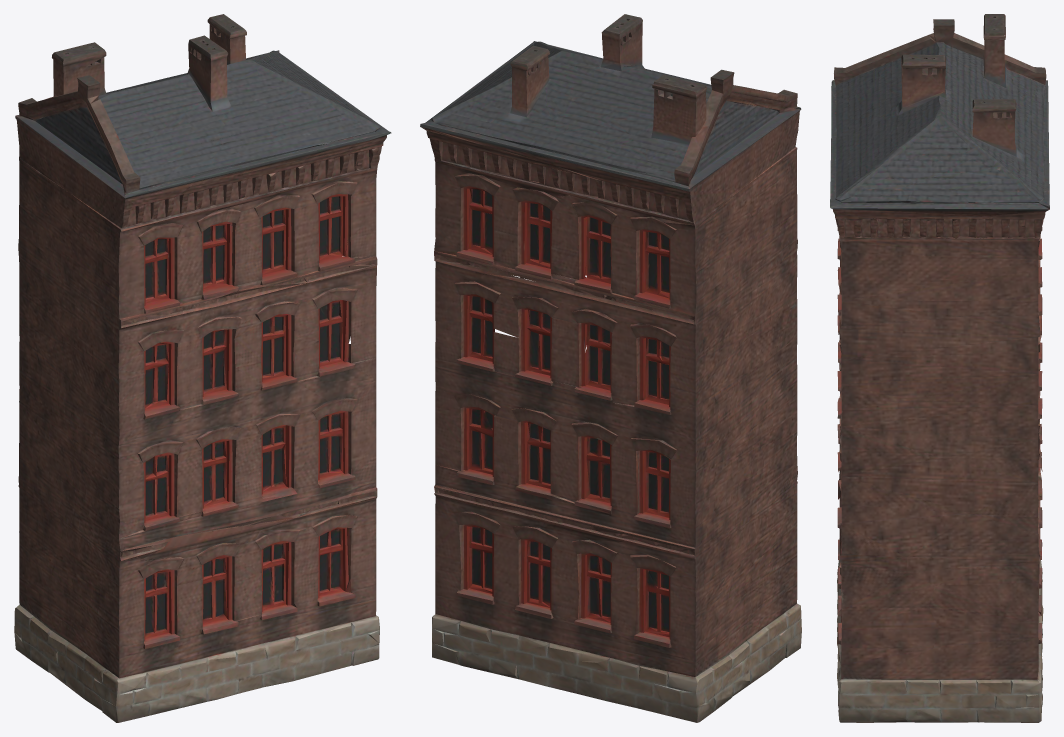
The model's file is colony_house_c3_hipped.glb.
3 views of the same model, side by side, from view 1: azimuth 30°, elevation 25°; view 2: azimuth 150°, elevation 25°; view 3: azimuth 270°, elevation 25° (orthographic). The views are drawn at different scales.
Visible parts, largest first — view 1: main; view 2: main; view 3: main.
Boxes of the visible parts, left/top/right/bottom form: main: left=14, top=14, right=391, bottom=722; main: left=420, top=14, right=801, bottom=722; main: left=830, top=14, right=1049, bottom=722.
Bounding box in the file's own units: 6.6 × 14.3 × 4.72.
Materials: 1 (1 with a texture image).
